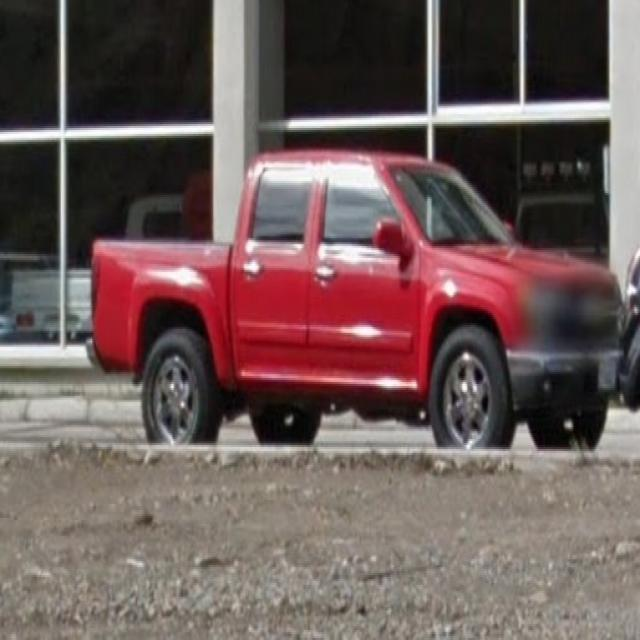Car: (81, 118, 630, 451)
